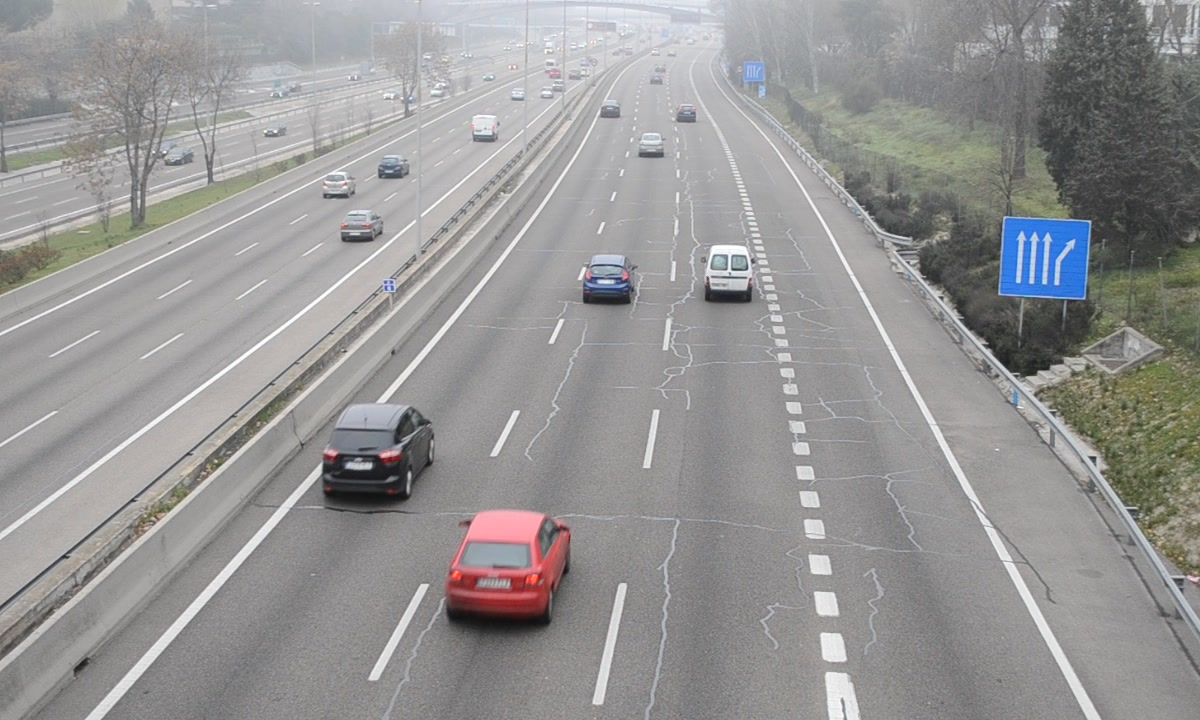car: (447, 513, 566, 623), (322, 405, 434, 499), (582, 253, 635, 302), (638, 131, 666, 159), (674, 102, 698, 124)
van: (704, 244, 754, 299)
